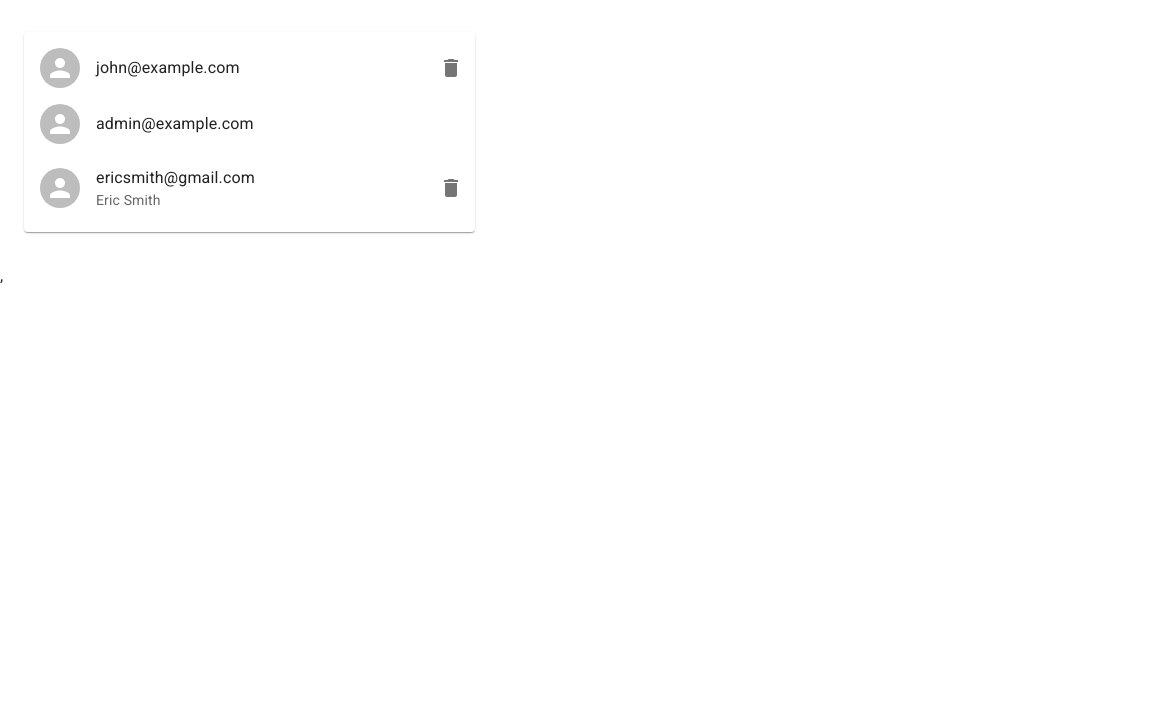
Scenario: should delete user from the list
Check: the list is shown, box left=24, top=32, right=475, bottom=232
Note: select user 2. Expect his profile to be displayed
Click the button with test id "d1ba04b9-cd9f-40fe-8956-8a0198f47884": (147,188) left=40, top=168, right=255, bottom=208
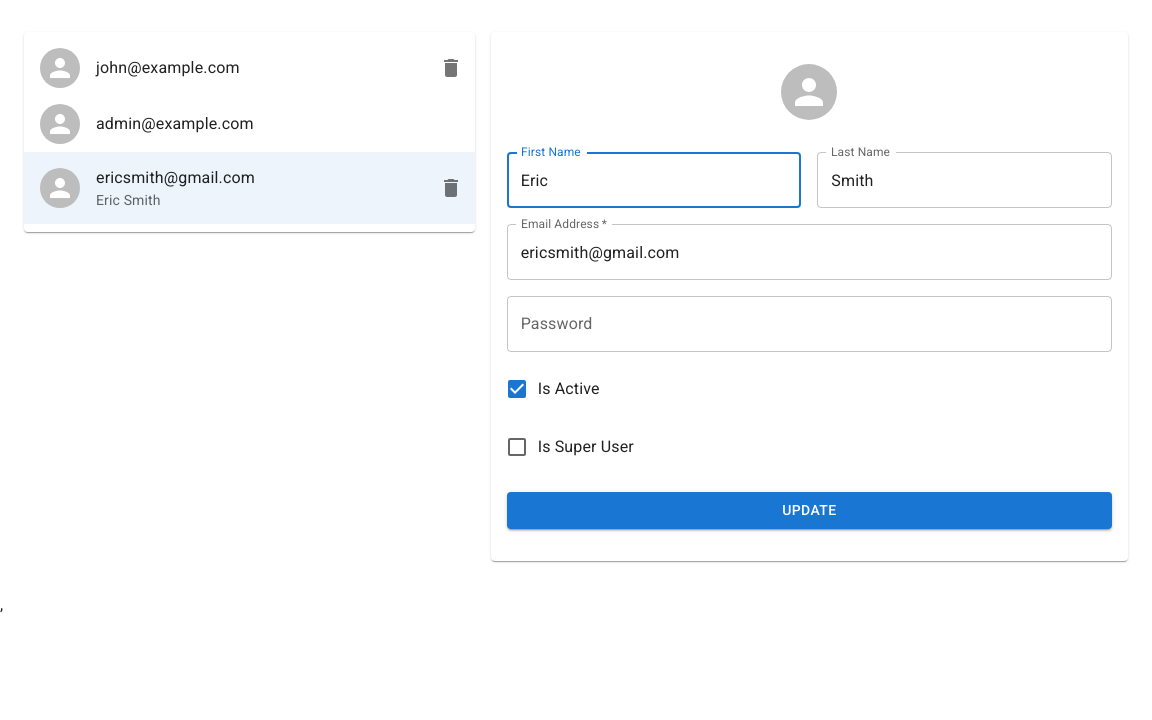
Check: the field labelled "Email Address *" holds "ericsmith@gmail.com", box left=507, top=224, right=1112, bottom=280
Note: click on delete button. Expect confirmation modal to be shown
Click the 2nd button named "delete": (451,188) left=431, top=168, right=471, bottom=208
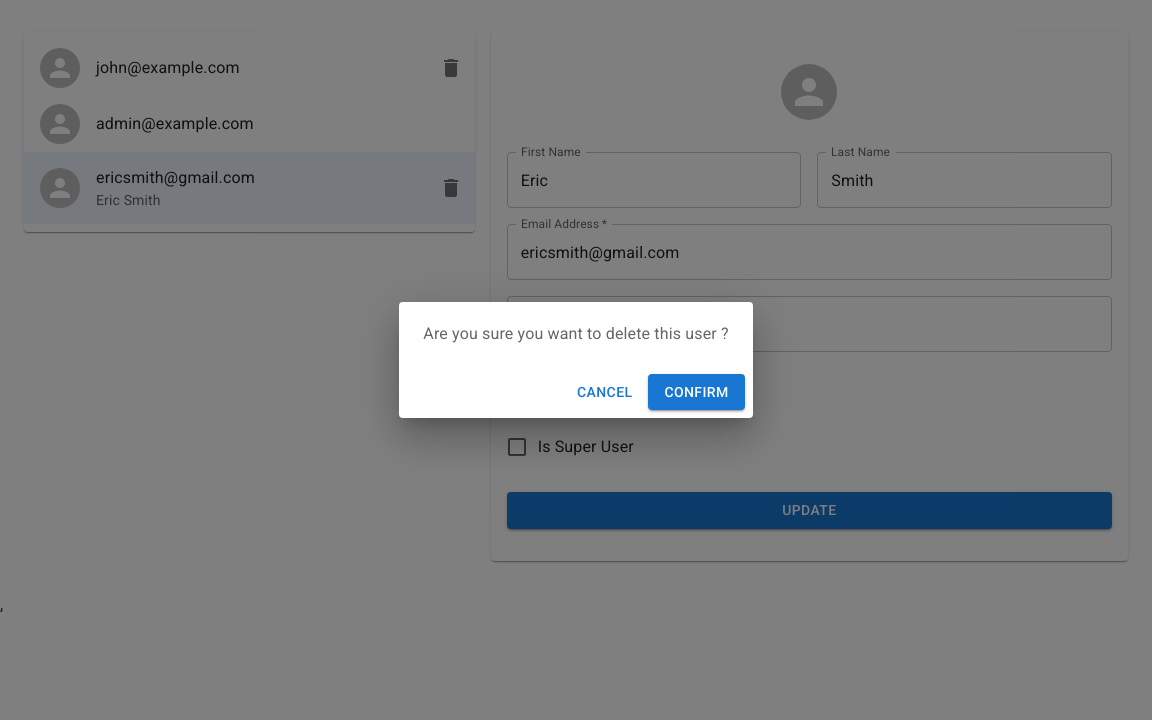
Check: the button "Confirm" is shown
Click the button "Confirm": (697,392) left=648, top=374, right=745, bottom=410
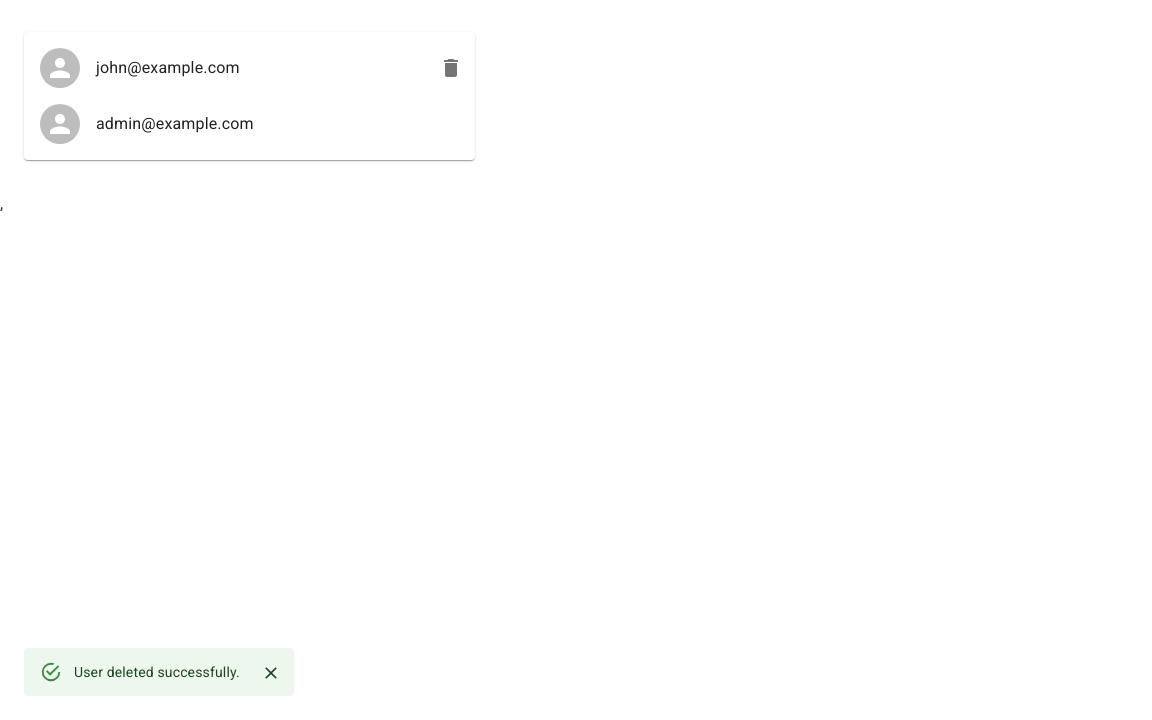
Check: the message reads "User deleted successfully.", box left=74, top=664, right=240, bottom=680
Check: the number of list items is 2, box left=24, top=40, right=475, bottom=96; left=40, top=104, right=254, bottom=144
Check: the button with test id "d1ba04b9-cd9f-40fe-8956-8a0198f47884" is gone
